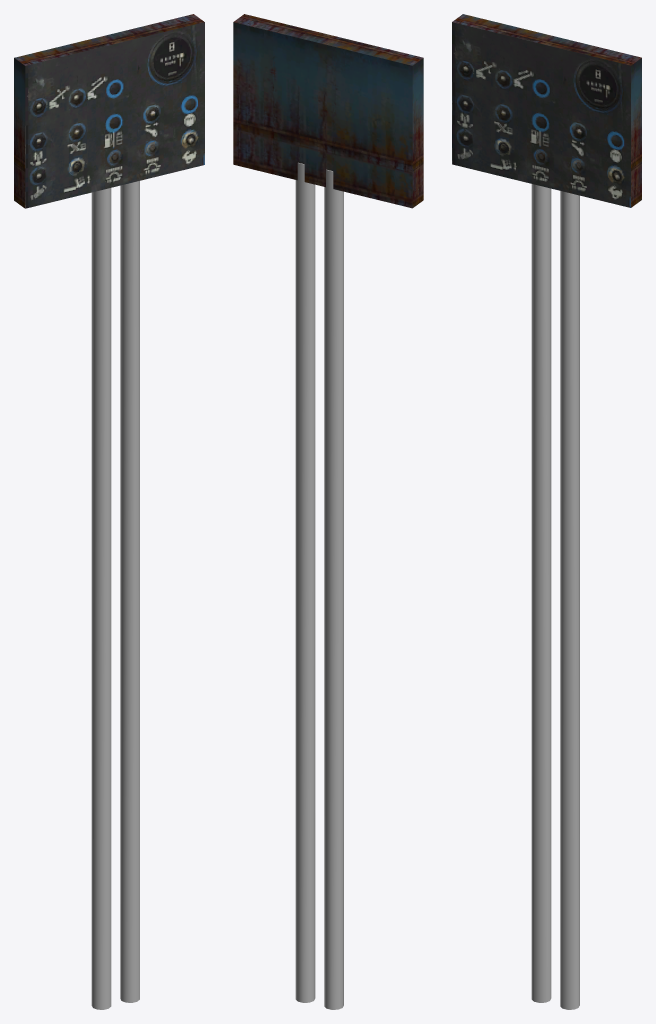
File: panel_simple.fbx
The picture shows the model from 3 angles, left to right: view 1: azimuth 30°, elevation 25°; view 2: azimuth 150°, elevation 25°; view 3: azimuth 330°, elevation 25°; orthographic projection.
Parts seen in each view (by area): view 1: Mesh Object; view 2: Mesh Object; view 3: Mesh Object.
Part boxes in pixels (x1,y1,x2,y2): Mesh Object: (14, 14, 204, 1009); Mesh Object: (233, 14, 423, 1009); Mesh Object: (452, 14, 641, 1009).
Bounding box in the file's own units: 0.2631 × 1.35 × 0.0291.
